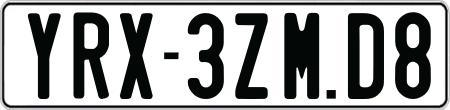3: (188, 12, 230, 104)
8: (394, 9, 433, 96)
D: (346, 12, 388, 101)
M: (281, 11, 317, 100)
R: (72, 12, 110, 105)
X: (118, 12, 157, 103)
Y: (25, 10, 63, 98)
Z: (233, 13, 267, 100)
